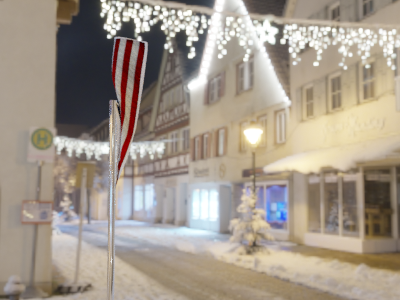America flag: (113, 36, 149, 185)
